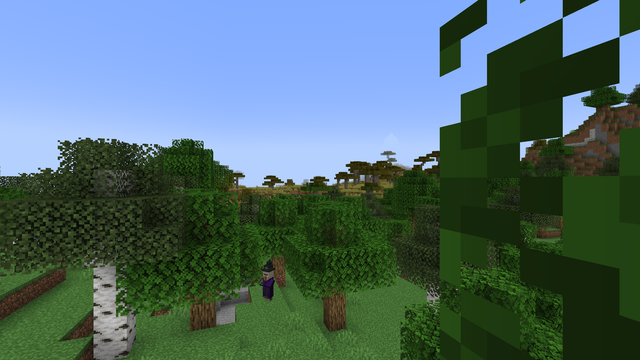sorcieres: (262, 267, 272, 302)
